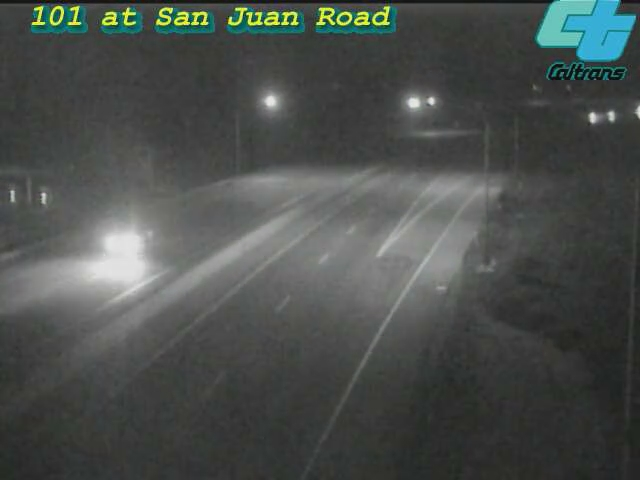vehicle: (78, 207, 158, 287), (589, 90, 639, 140), (569, 93, 619, 143), (613, 87, 640, 137)
